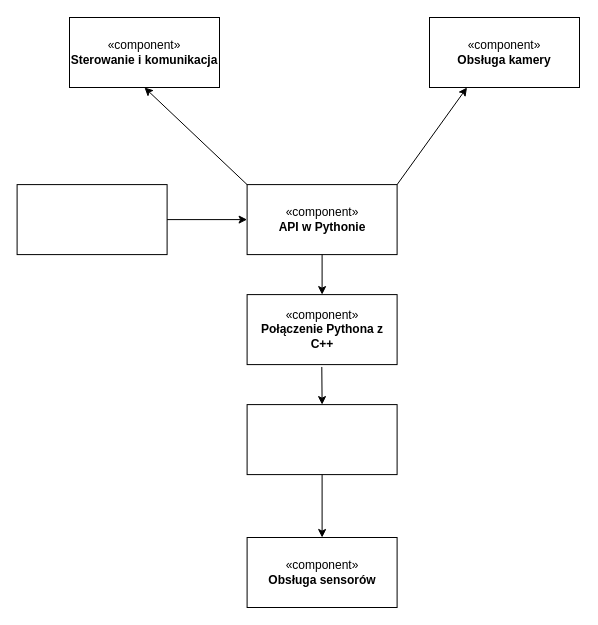
Image size: 598x625. Some labels were removed from this diagram. The centre of each missing label's shape, as x and y in pixels:
"«component» Rdzeń SDK w C++" belongs at [321,439].
"«component» Skrypty przykładowych misji" belongs at [91,219].
